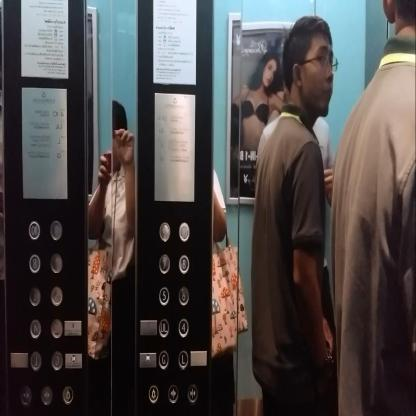10: (178, 222, 190, 242)
4: (178, 317, 188, 337)
5: (158, 286, 169, 304)
6: (178, 286, 189, 305)
7: (158, 252, 170, 274)
8: (29, 252, 41, 273), (179, 254, 189, 274)
G: (158, 350, 169, 369)
L: (177, 350, 188, 368)
UL: (158, 318, 170, 338)
alarm: (147, 384, 159, 402), (62, 385, 74, 403)
blur: (159, 221, 170, 242)
close: (186, 383, 198, 404), (20, 385, 32, 405)
open: (166, 382, 179, 404), (40, 385, 52, 405)
unknown: (29, 284, 42, 306), (50, 284, 63, 305), (50, 252, 62, 274), (50, 219, 62, 240), (29, 319, 41, 339), (50, 317, 62, 337), (29, 219, 40, 240), (51, 350, 63, 369), (31, 352, 41, 370)
